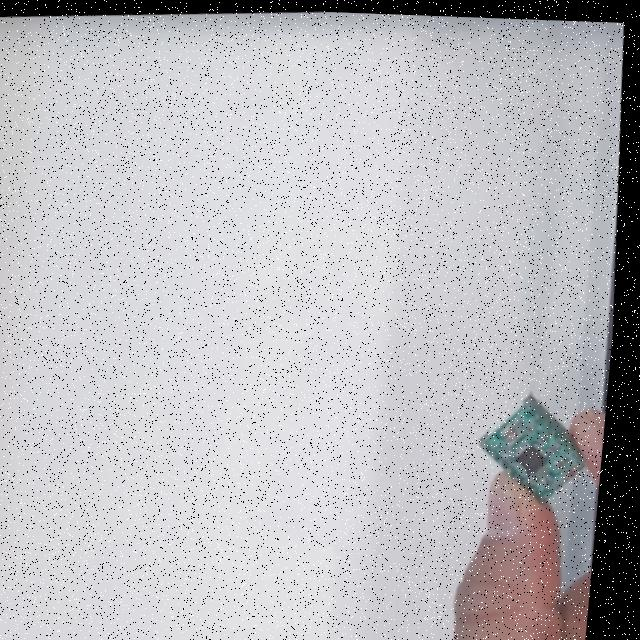Chip: (476, 389, 595, 503)
